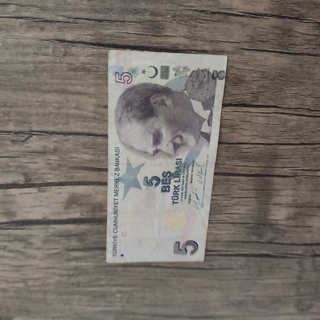5TLFront: (105, 48, 228, 264)
